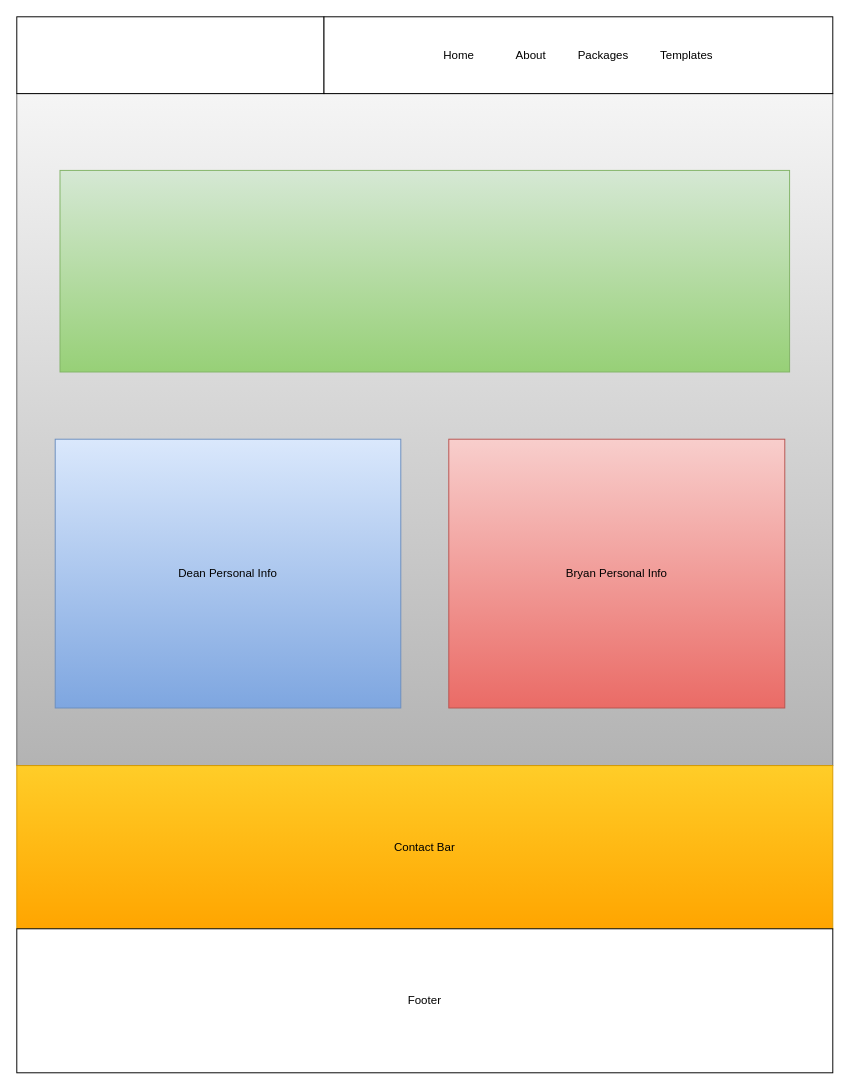
Some shapes in this 850 by 1090 pixel diagram are drawn without their labels. The shapes that lost their labels are listed below. From the top down, each one's centre as x and y in pixels, then its label:
At point 170,55: "DB Web Development LLC".
At point 424,270: "Mission Statement".
